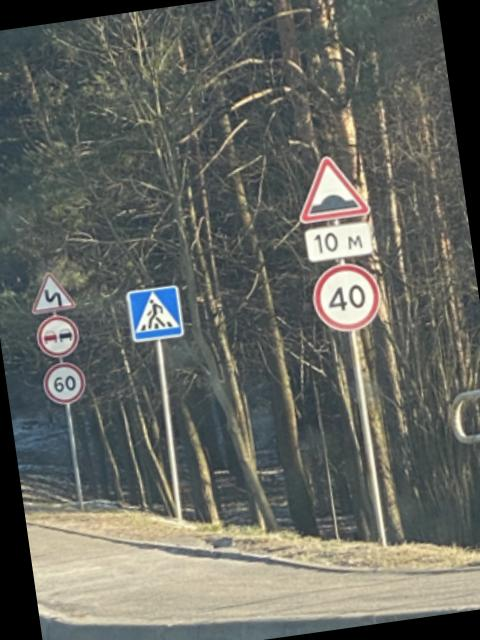crosswalk-sign: (124, 284, 187, 345)
